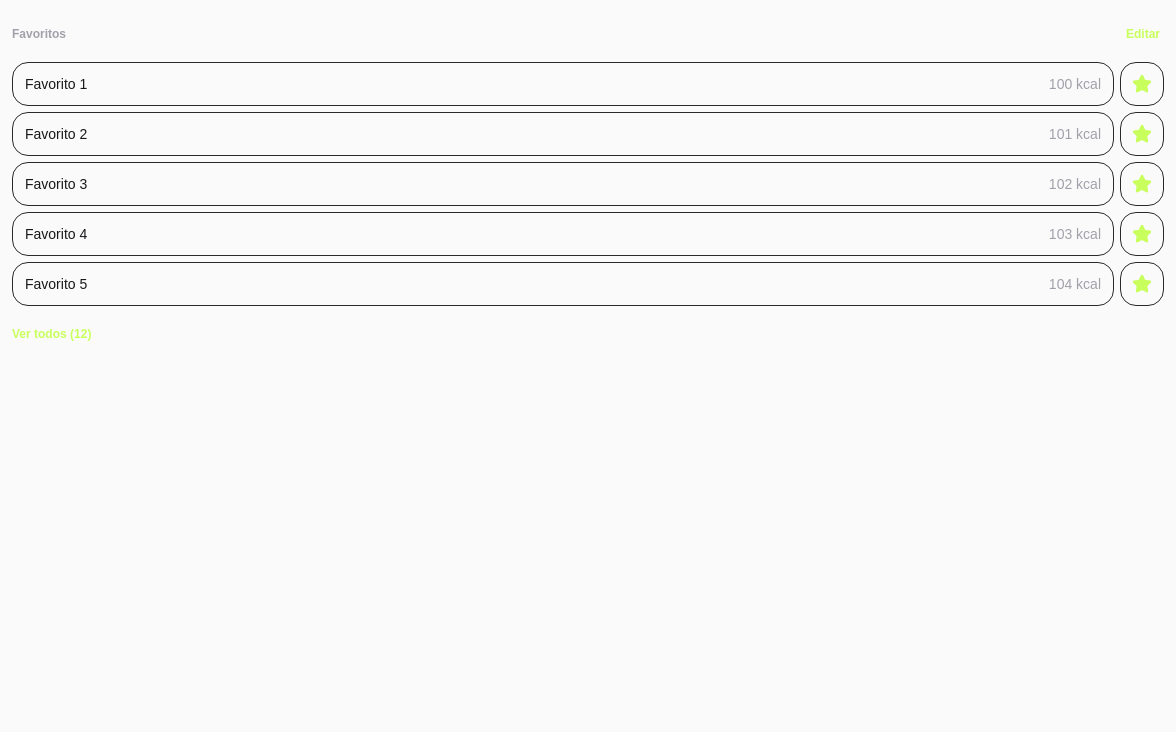
Test: R9: como mucho 5 filas y «Ver todos (N)» › R9: «Ver todos (12)» despliega los 12 en el sitio
Click the button "Ver todos (12)". click: (52, 334)
box: 12,312 -> 91,356
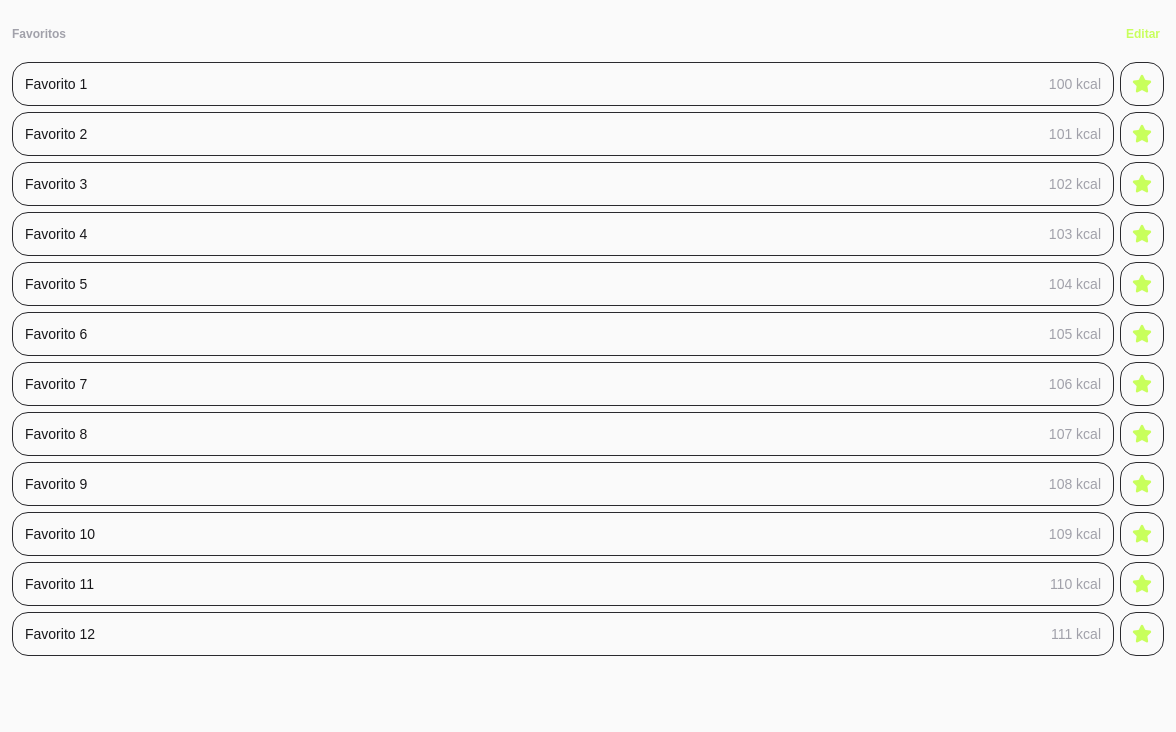
Expected: the button "Ver todos" is gone
